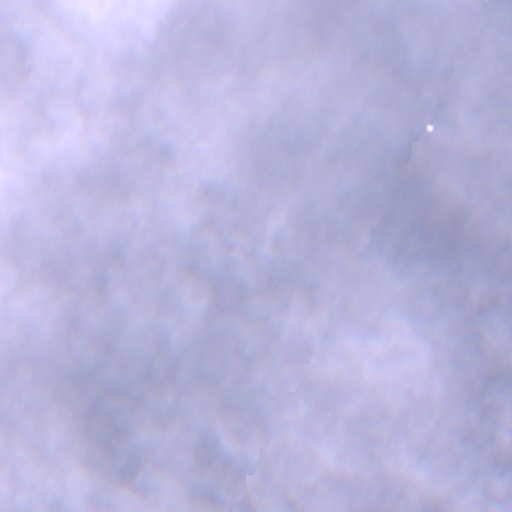Iceberg: (428, 125, 432, 131)
